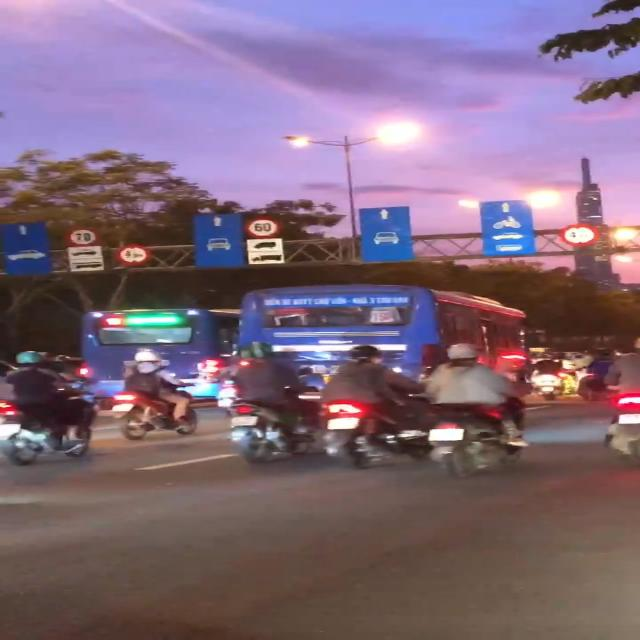Bien bao toc do toi da cho phep: (241, 217, 286, 240), (65, 227, 102, 247)
